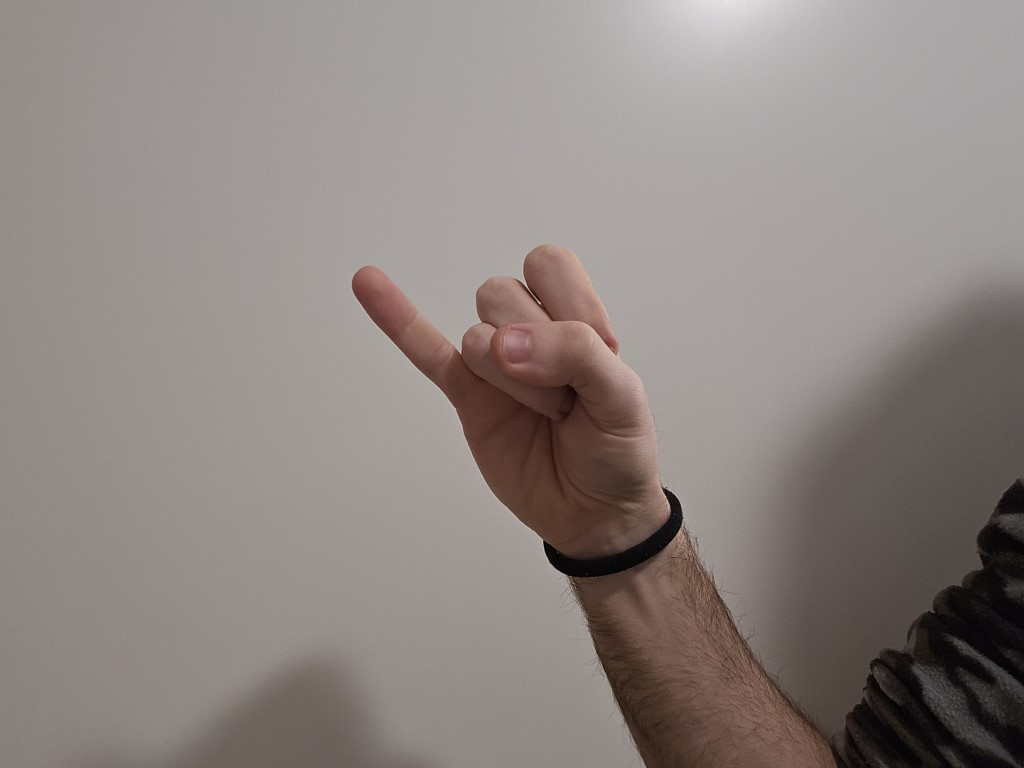j: (317, 242, 666, 531)
